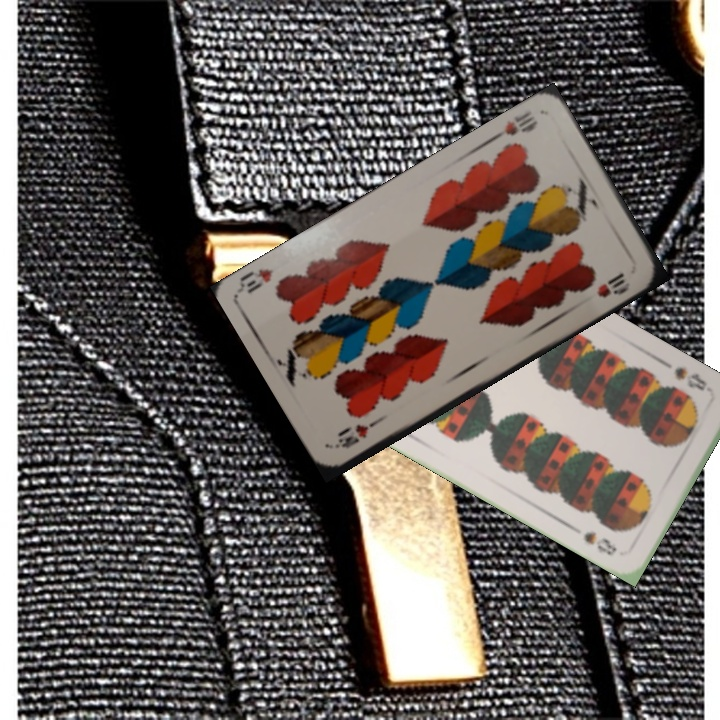H10: (332, 412, 386, 451), (487, 106, 540, 143)
S8: (670, 363, 710, 394)
